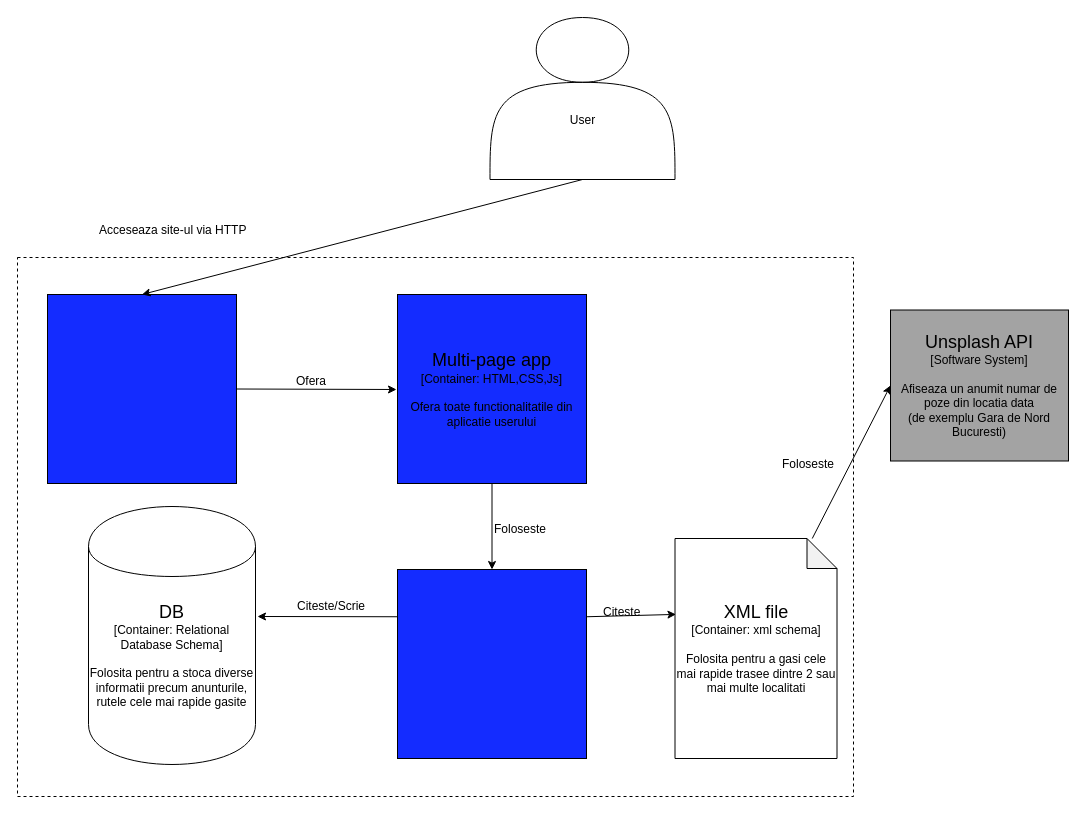
This 1086x814 diagram has some shape labels left out. Each missing label, with the box of its shape:
API app [Container: PHP] Ofera functionalitati via HTTP API: (396, 568, 586, 758)
Wep app [Container: PHP] Afiseaza contentul static: (46, 294, 236, 484)
